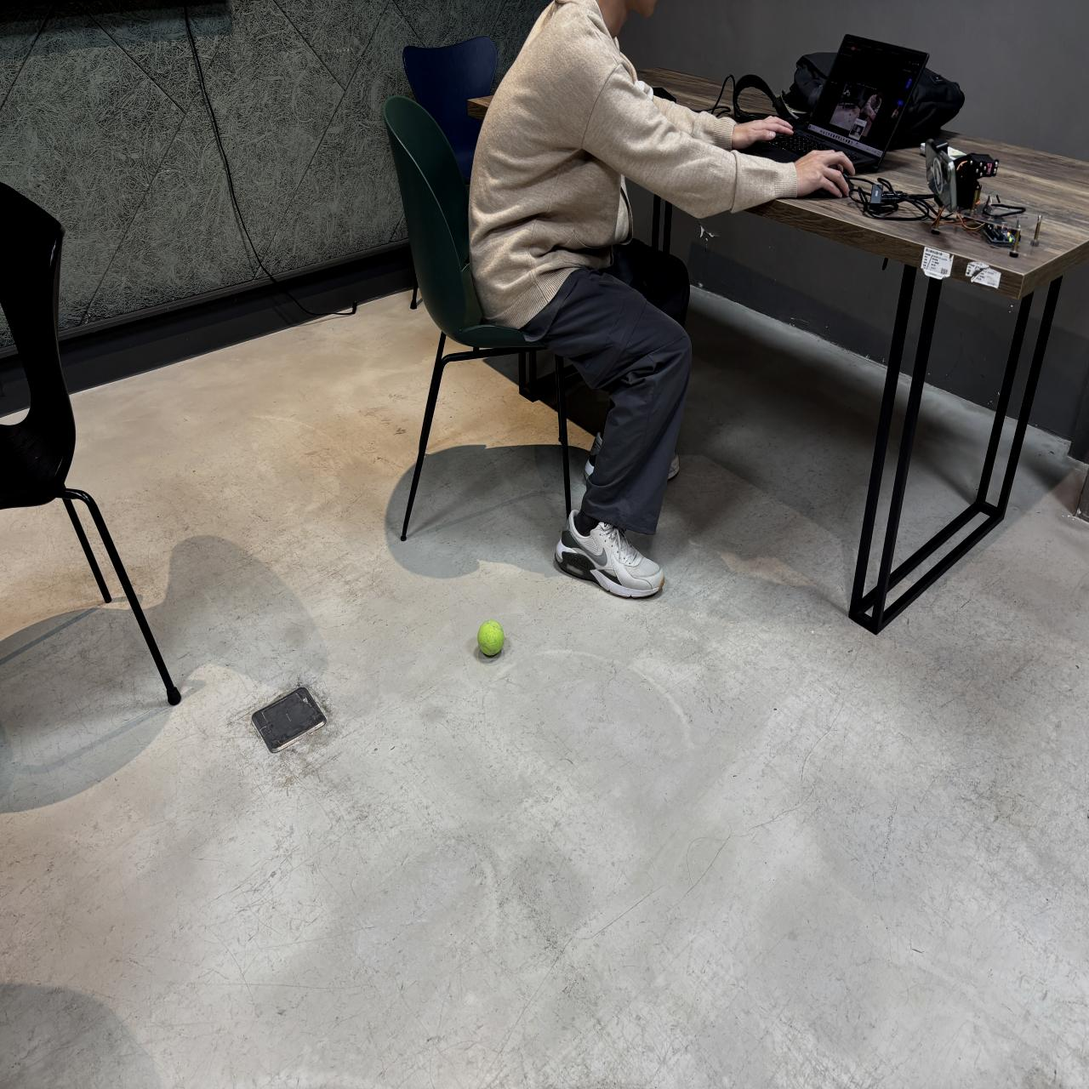tennisball: (478, 622, 504, 657)
